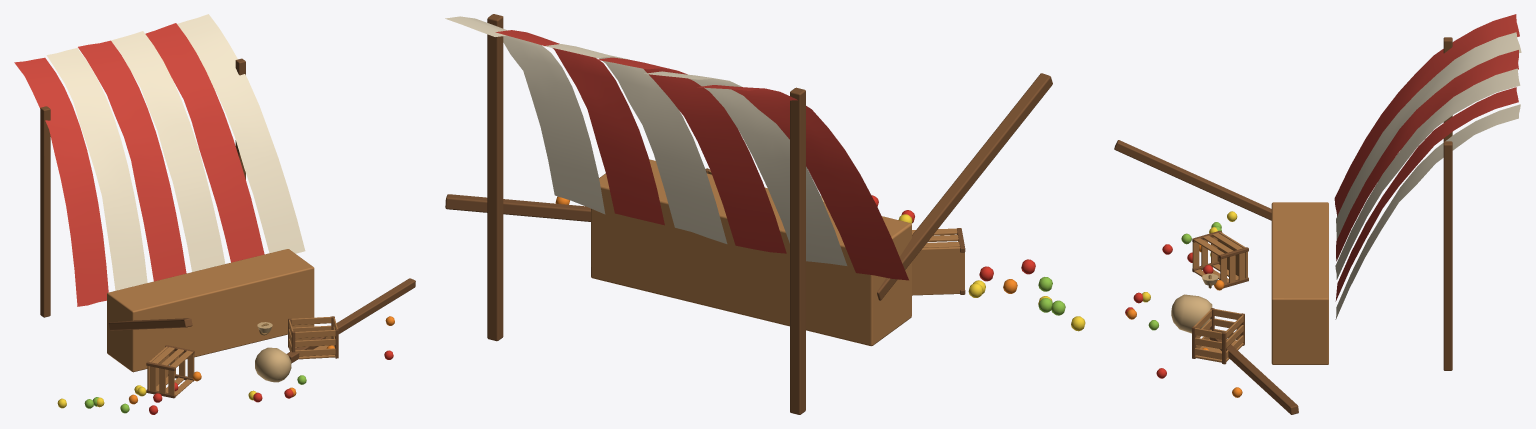
Rendered from mk_stall_collapsed.glb.
The picture shows the model from 3 angles, left to right: view 1: azimuth 30°, elevation 25°; view 2: azimuth 150°, elevation 25°; view 3: azimuth 270°, elevation 25°; orthographic projection. The views are drawn at different scales.
Parts seen in each view (by area): view 1: mk_stall_collapsed_body; view 2: mk_stall_collapsed_body; view 3: mk_stall_collapsed_body.
Boxes of the visible parts, x1,y1,x2,y2 form: mk_stall_collapsed_body: (14, 14, 415, 414); mk_stall_collapsed_body: (445, 14, 1085, 414); mk_stall_collapsed_body: (1114, 14, 1521, 414).
Bounding box in the file's own units: 5.91 × 3.48 × 4.97.
